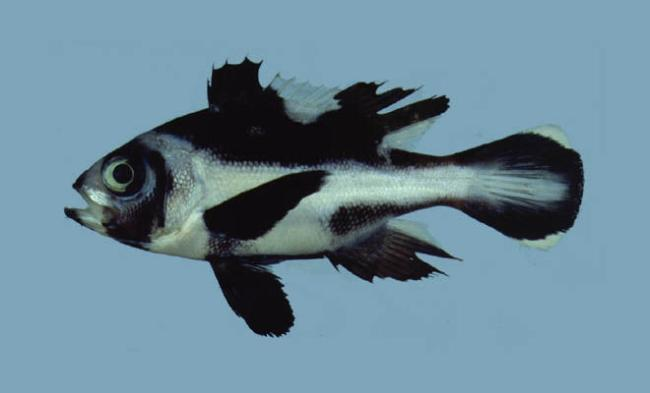fish: (65, 55, 585, 338)
